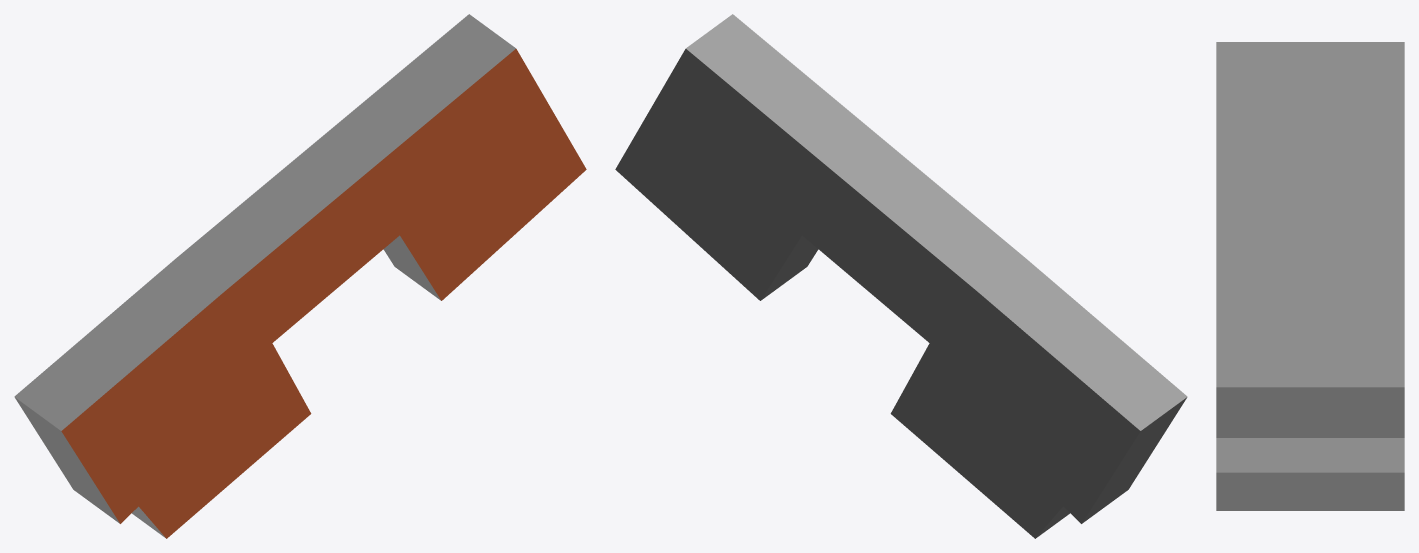
The model's file is construction_0811_assumed_A_Casa_h6m.obj.
3 views of the same model, side by side, from view 1: azimuth 30°, elevation 25°; view 2: azimuth 150°, elevation 25°; view 3: azimuth 270°, elevation 25° (orthographic). The views are drawn at different scales.
Parts seen in each view (by area): view 1: construction_0811_assumed_A_Casa; view 2: construction_0811_assumed_A_Casa; view 3: construction_0811_assumed_A_Casa.
Boxes of the visible parts, x1,y1,x2,y2 form: construction_0811_assumed_A_Casa: (14, 14, 586, 538); construction_0811_assumed_A_Casa: (615, 14, 1187, 538); construction_0811_assumed_A_Casa: (1216, 42, 1404, 510).
Size of the model in its own units: 38.65 by 28.49 by 6.
